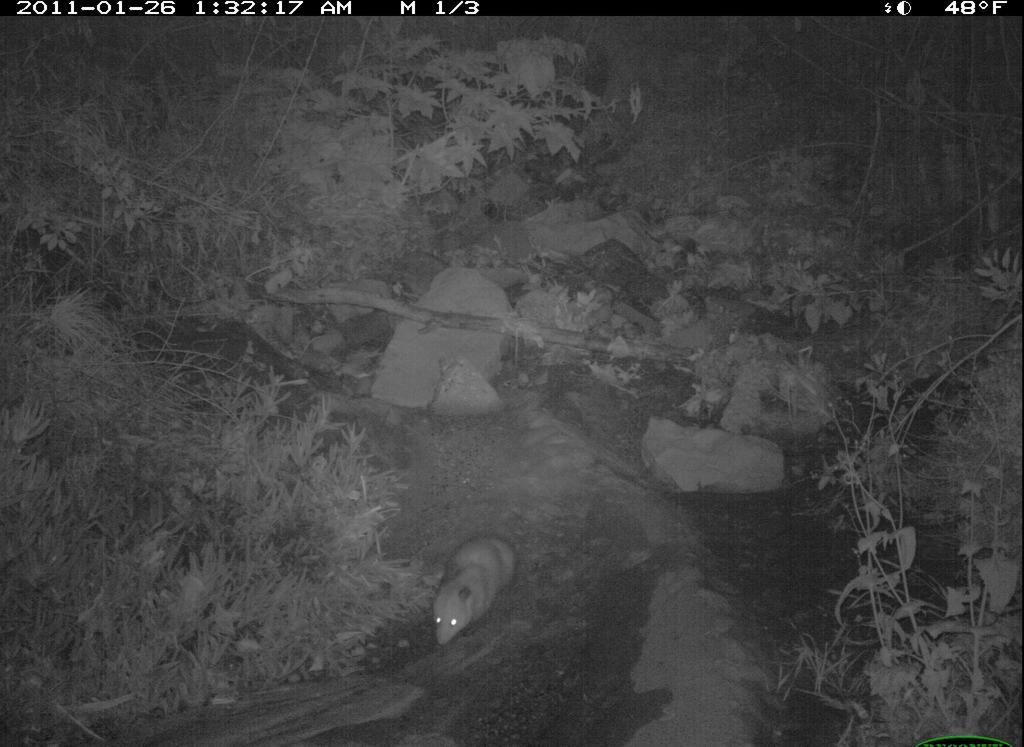opossum: (423, 520, 530, 667)
